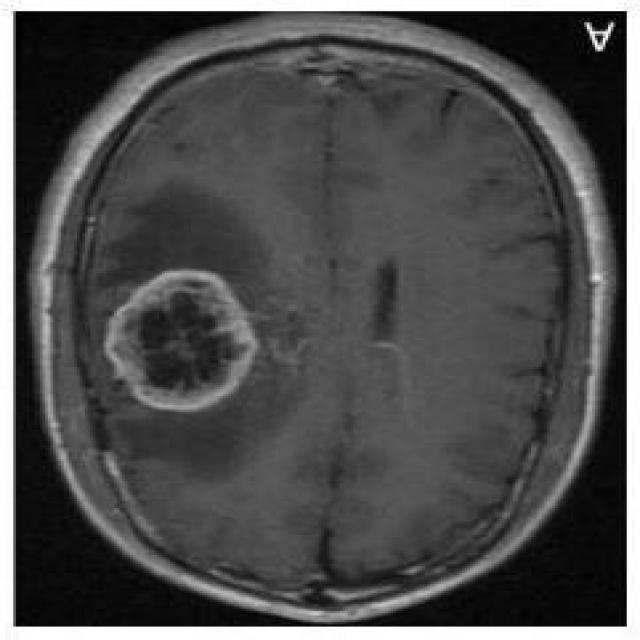Tumor: (97, 267, 272, 420)
